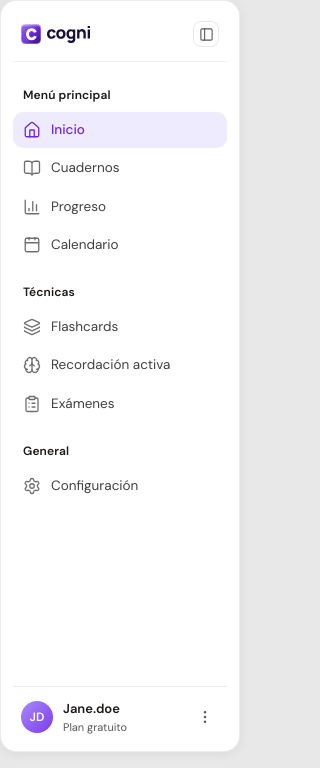
Scenario: Sidebar › pins the user footer card at the bottom with the sign-out menu
The width and height of the screenshot is (320, 768).
Expected: the text "JD" is shown, [21, 701, 53, 733]
Click the button named "Opciones de la cuenta": coordinates (205, 717) [191, 703, 219, 731]
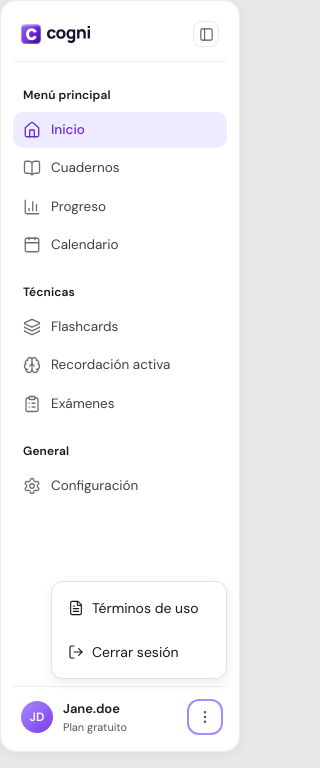
Now the menu item "Cerrar sesión" is shown, box [56, 630, 222, 674]
